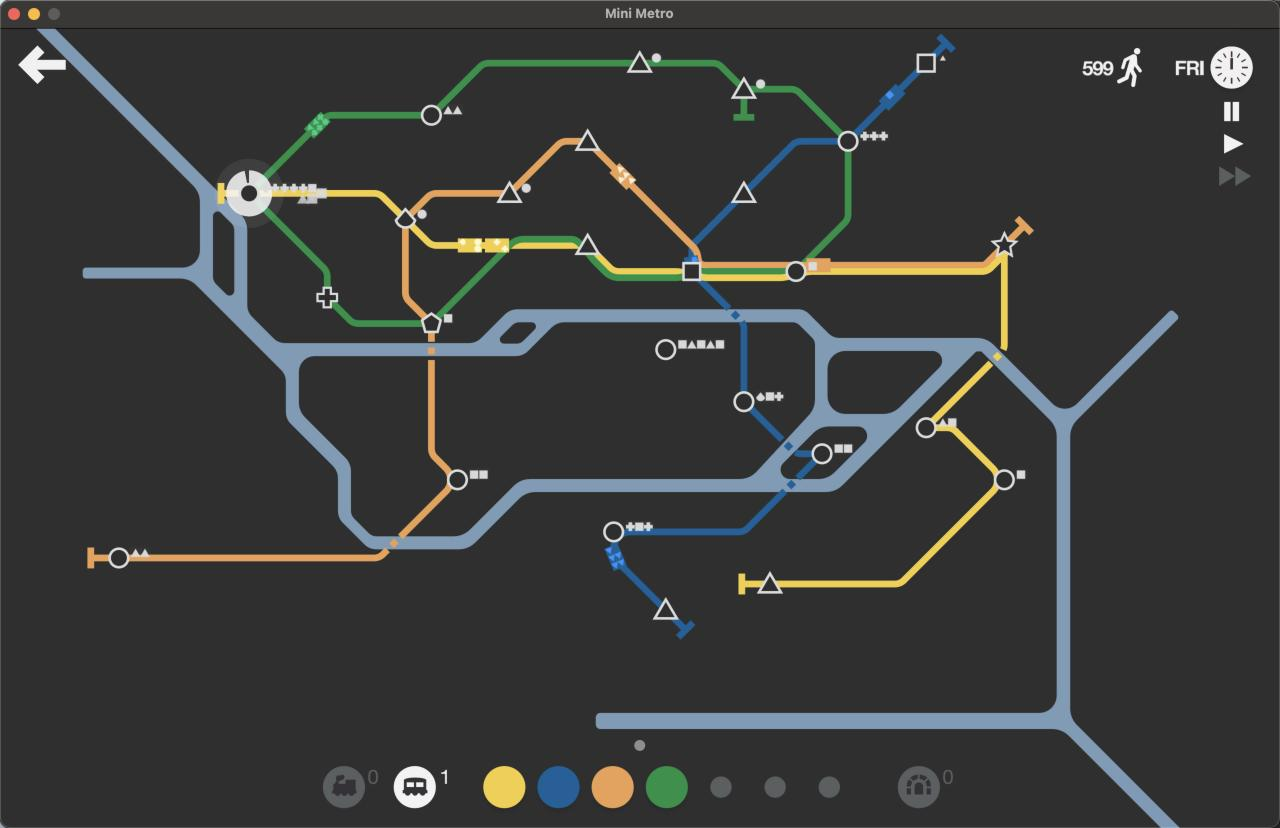CIRCLE: (810, 442, 833, 466), (602, 521, 625, 544), (733, 390, 756, 413), (915, 416, 938, 439), (837, 129, 859, 152), (420, 104, 442, 127), (994, 468, 1016, 491), (655, 338, 677, 361), (108, 547, 130, 569), (447, 468, 468, 491), (785, 261, 807, 282), (240, 184, 258, 201)
CROSS: (316, 286, 338, 308)
PENTAGON: (420, 312, 442, 335)
SQUARE: (681, 259, 701, 282), (916, 53, 935, 73)
STAR: (990, 234, 1017, 258)
TRIANGLE: (626, 49, 654, 74), (653, 596, 680, 621), (731, 179, 757, 204), (574, 232, 601, 256), (730, 75, 757, 99), (497, 180, 523, 204), (756, 571, 783, 594), (575, 128, 600, 152)
WEDGE: (395, 207, 417, 229)
